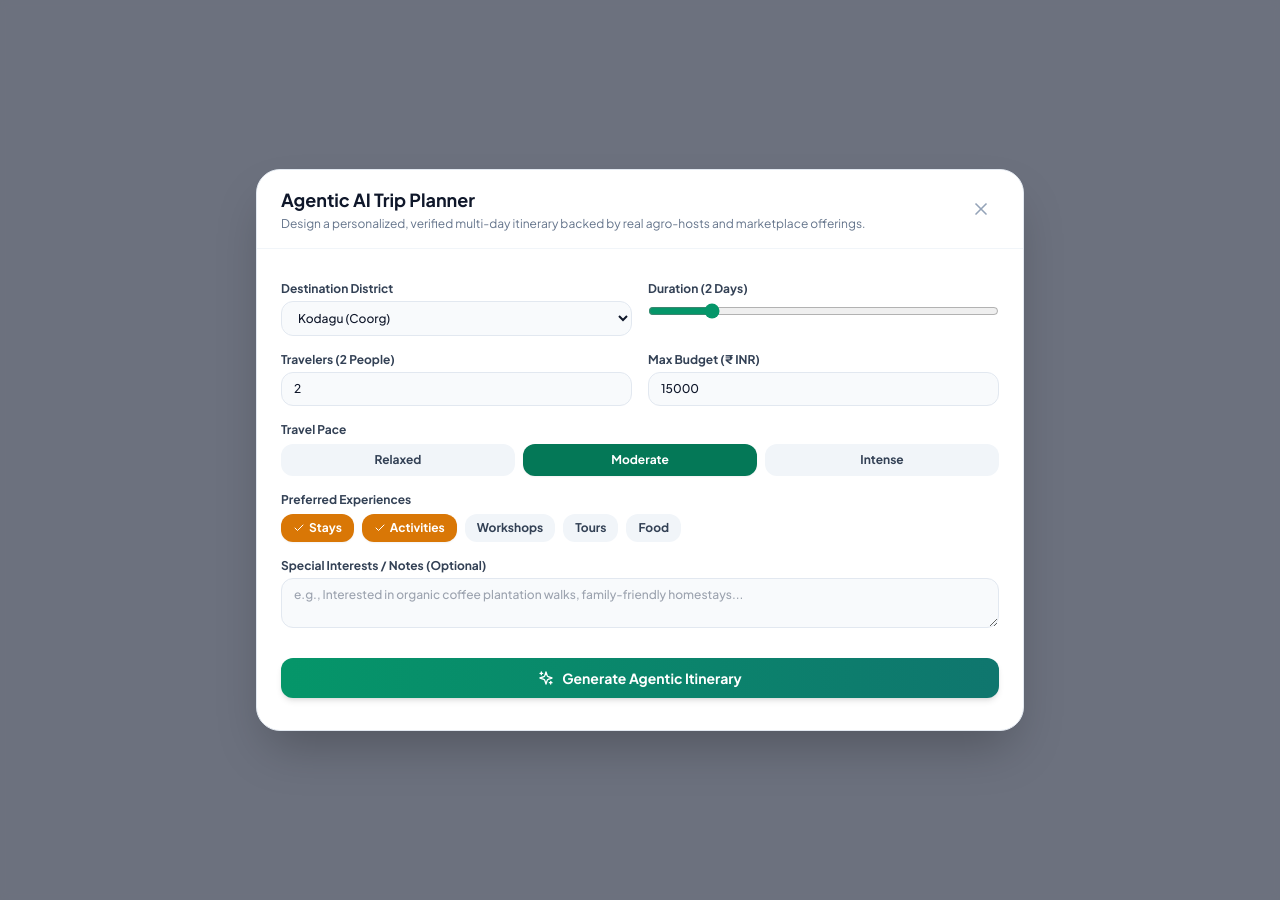
Test: Agentic Trip Planner V2 Frontend Integration › confirms trip plan and transitions to pre-booking handoff view without creating premature bookings
// Generate plan
Step 1. Click the button "Generate Agentic Itinerary" → (640,678), box [281,658,999,698]
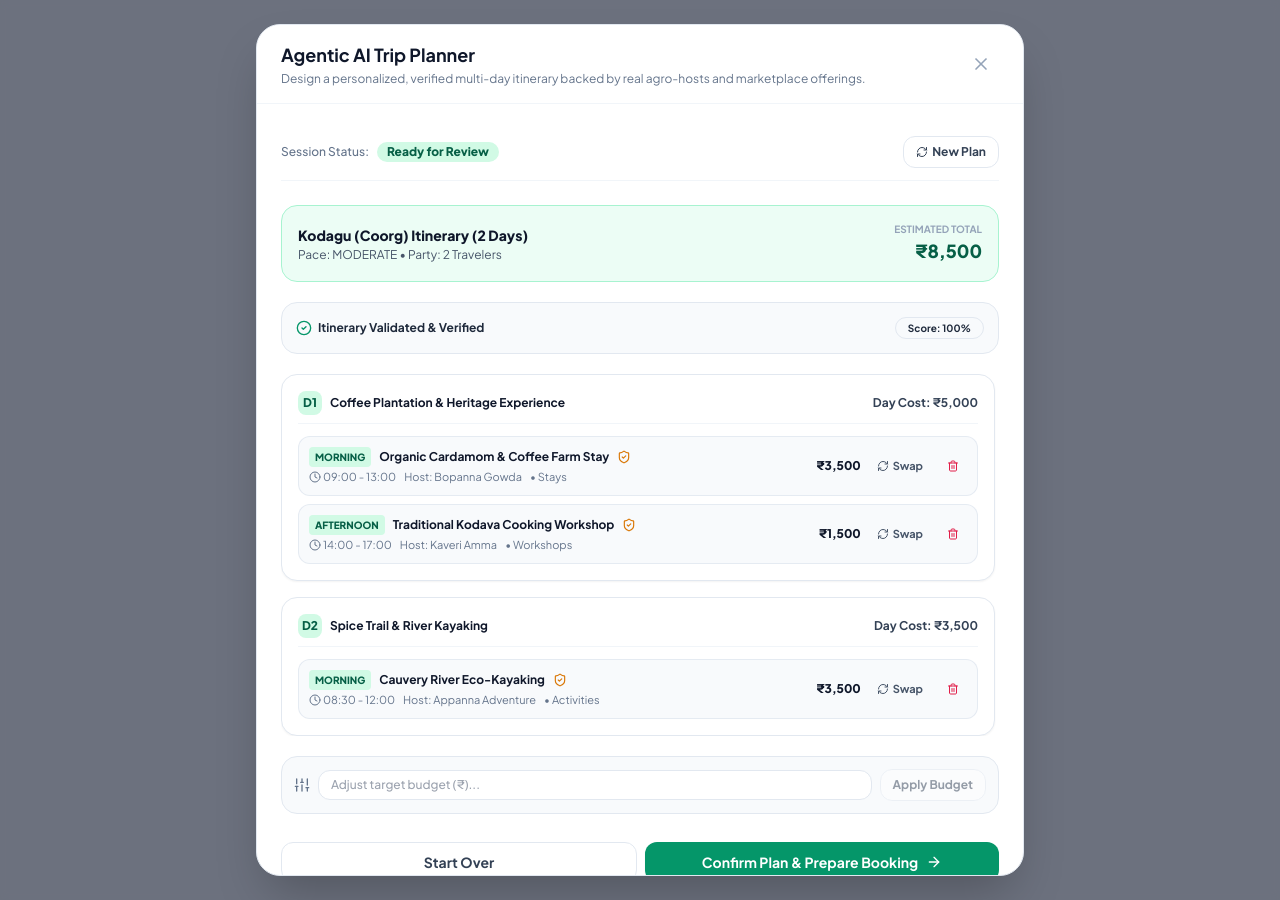
Check: the button "Confirm Plan & Prepare Booking" is shown
// Confirm plan
Step 2. Click the button "Confirm Plan & Prepare Booking" → (822,862), box [645,842,999,882]
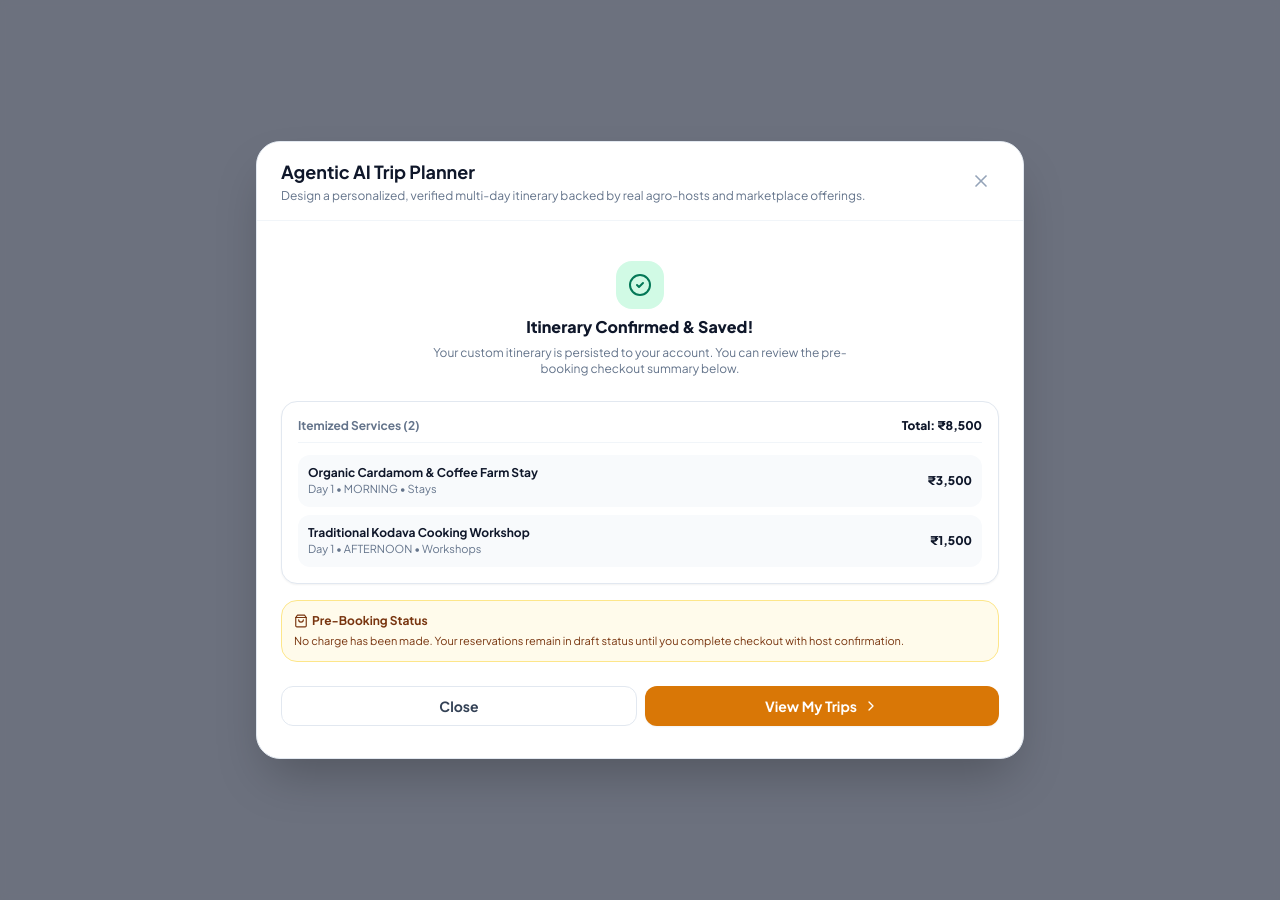
Check: the heading "Itinerary Confirmed & Saved!" is shown, box [526,316,754,337]
Check: the text "Pre-Booking Status" is shown, box [312,613,428,629]
Check: the text "No charge has been made. Your reservations remain in draft status until you complete checkout" is shown, box [294,634,904,647]
